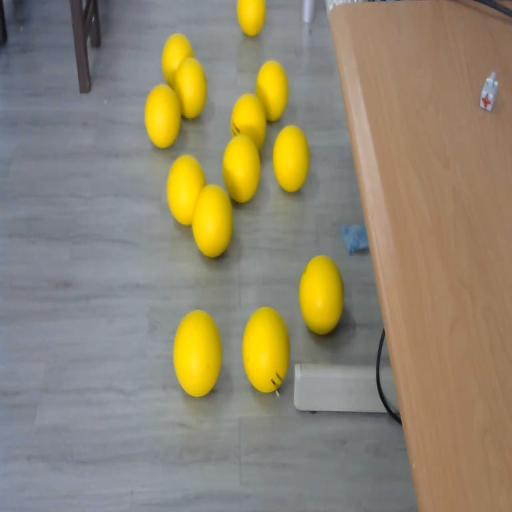FUEL: (240, 304, 292, 394), (172, 309, 222, 396), (298, 253, 344, 335), (190, 182, 234, 259), (222, 134, 262, 202), (272, 122, 310, 193), (144, 84, 182, 148), (256, 60, 288, 121), (162, 33, 193, 88), (237, 0, 266, 36)
